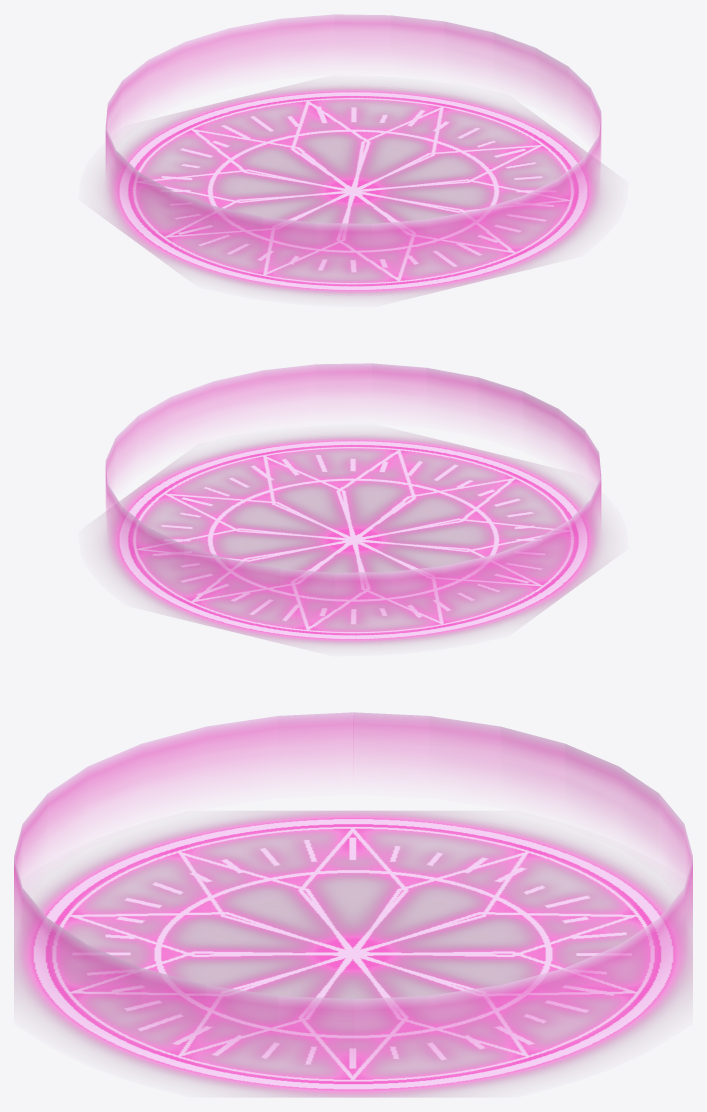
File: fx_bloom_t2.glb
3 renders of one model, top to bottom at view 1: azimuth 30°, elevation 25°; view 2: azimuth 150°, elevation 25°; view 3: azimuth 270°, elevation 25°, orthographic. The views are drawn at different scales.
Visible parts, largest first — view 1: fx_bloom_rune, fx_bloom_veil; view 2: fx_bloom_rune, fx_bloom_veil; view 3: fx_bloom_rune, fx_bloom_veil.
Boxes of the visible parts, x1,y1,x2,y2 form: fx_bloom_rune: [102, 85, 604, 296]; fx_bloom_veil: [105, 14, 601, 266]; fx_bloom_rune: [102, 434, 604, 645]; fx_bloom_veil: [105, 363, 601, 617]; fx_bloom_rune: [14, 811, 692, 1097]; fx_bloom_veil: [14, 712, 692, 1063].
Size of the model in its own units: 1 by 0.16 by 1.
Materials: 2 (2 with a texture image).
